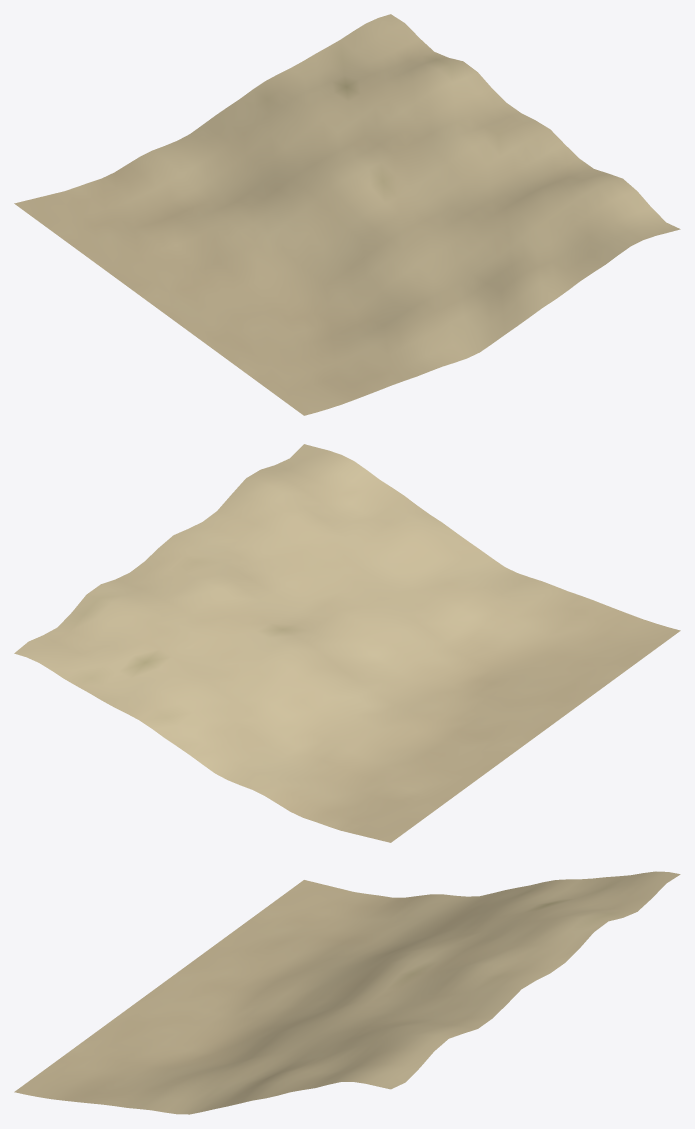
Rendered from Dune_Backdrop.glb.
The picture shows the model from 3 angles, top to bottom: view 1: azimuth 30°, elevation 25°; view 2: azimuth 150°, elevation 25°; view 3: azimuth 330°, elevation 25°; orthographic projection.
Parts seen in each view (by area): view 1: Dune_Backdrop; view 2: Dune_Backdrop; view 3: Dune_Backdrop.
Part boxes in pixels (x1,y1,x2,y2): Dune_Backdrop: [14, 14, 680, 415]; Dune_Backdrop: [14, 444, 680, 842]; Dune_Backdrop: [14, 871, 680, 1114].
Bounding box in the file's own units: 30 × 7.86 × 40.
